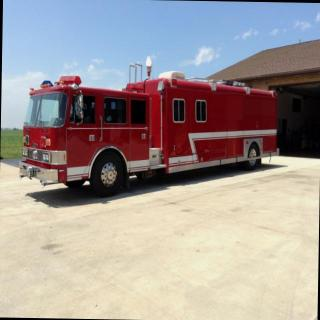Fire_truck: (18, 54, 280, 200)
